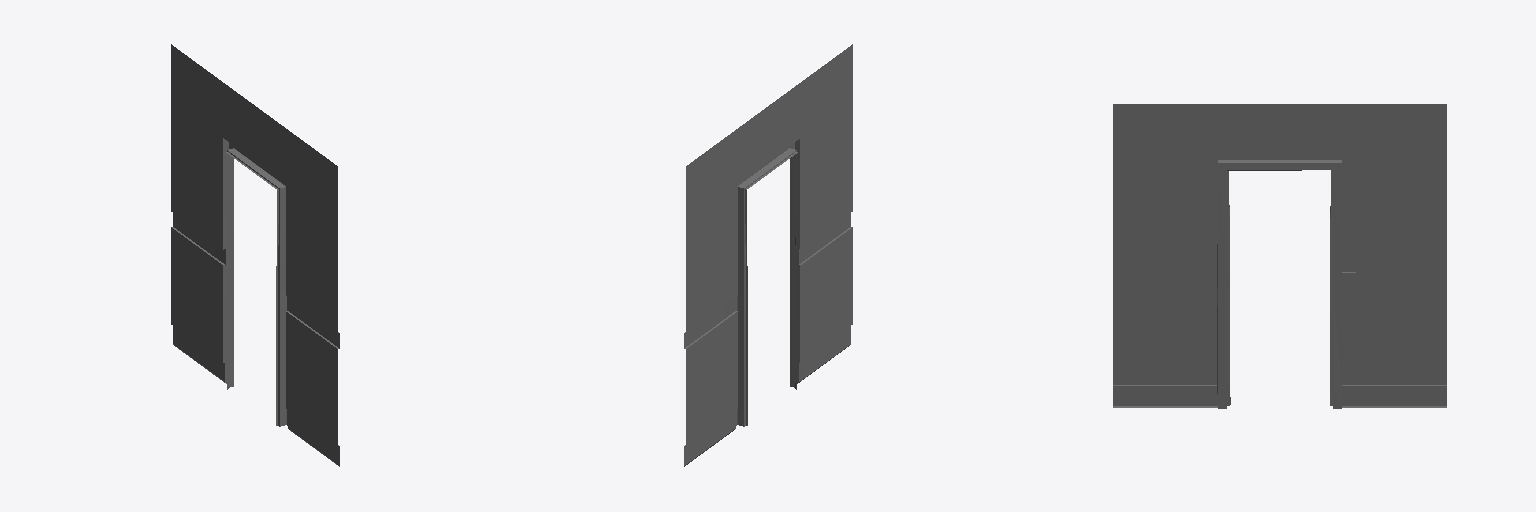
File: new_wall_withdoor01.obj
3 renders of one model, left to right at view 1: azimuth 30°, elevation 25°; view 2: azimuth 150°, elevation 25°; view 3: azimuth 270°, elevation 25°, orthographic.
Visible parts, largest first — view 1: wall_door07; view 2: wall_door07; view 3: wall_door07.
Part boxes in pixels (x1,y1,x2,y2): wall_door07: (171,44,339,466); wall_door07: (684,44,852,466); wall_door07: (1113,104,1446,408).
Bounding box in the file's own units: 2.23 × 70 × 70.